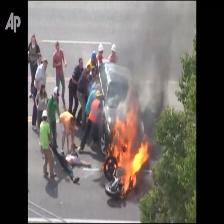fire: (108, 106, 149, 193)
